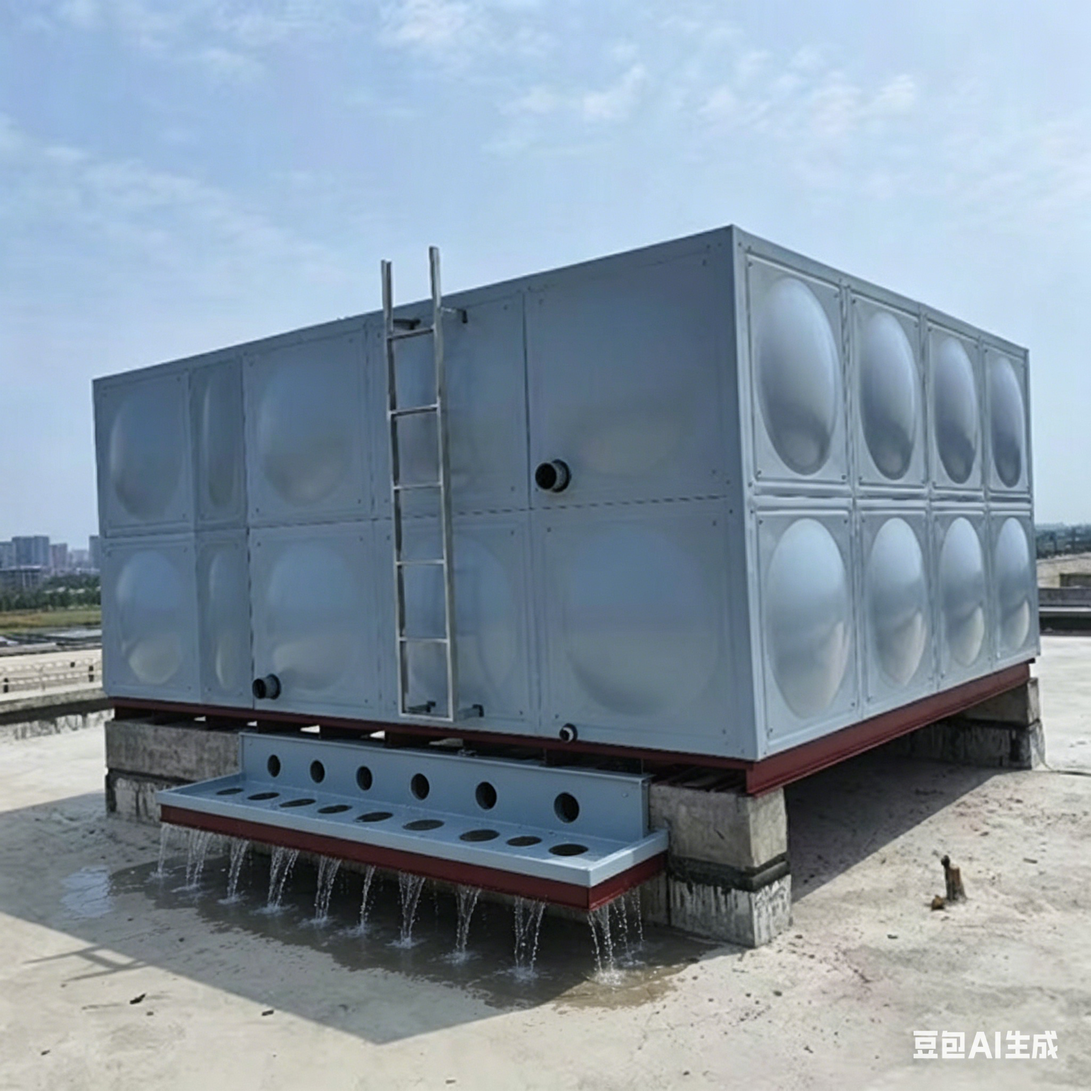Leakage: (140, 824, 676, 997)
